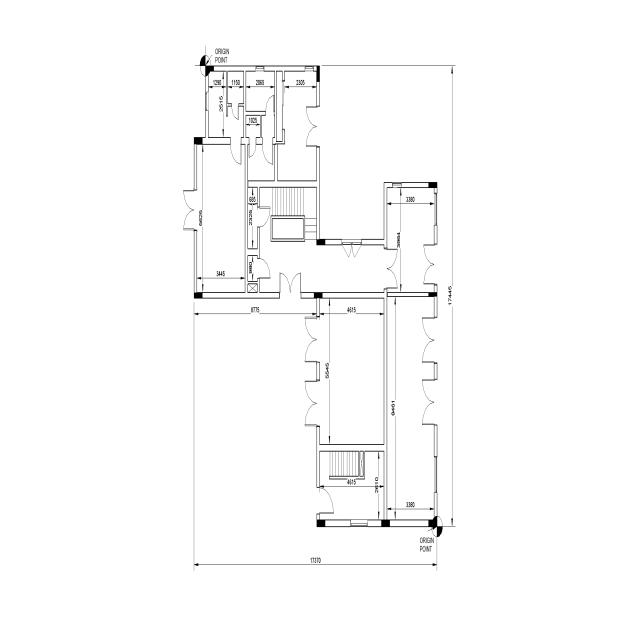Column: (429, 519, 437, 527), (316, 66, 320, 82), (381, 520, 390, 527), (428, 182, 438, 188), (316, 239, 326, 245), (317, 520, 325, 527), (194, 138, 203, 144), (194, 292, 203, 298), (314, 292, 323, 298), (428, 292, 438, 297), (206, 66, 213, 72)
Door: (316, 484, 334, 517), (230, 136, 242, 166), (257, 257, 271, 281), (262, 136, 273, 165), (257, 206, 270, 228), (248, 136, 257, 158), (266, 94, 274, 116), (231, 102, 239, 120)
Double-Door: (304, 314, 321, 364), (421, 315, 438, 365), (304, 379, 321, 428), (421, 378, 438, 427), (278, 272, 302, 300), (183, 189, 198, 232), (383, 247, 398, 290), (423, 243, 438, 286), (305, 106, 320, 148)
Sliding Door: (281, 79, 286, 132)
Staircase: (271, 188, 316, 242), (320, 450, 359, 477)
Window: (341, 238, 362, 258), (433, 455, 438, 494), (350, 518, 368, 528), (433, 192, 438, 226), (392, 182, 402, 190), (205, 91, 209, 111), (255, 65, 265, 72), (305, 65, 314, 72)
